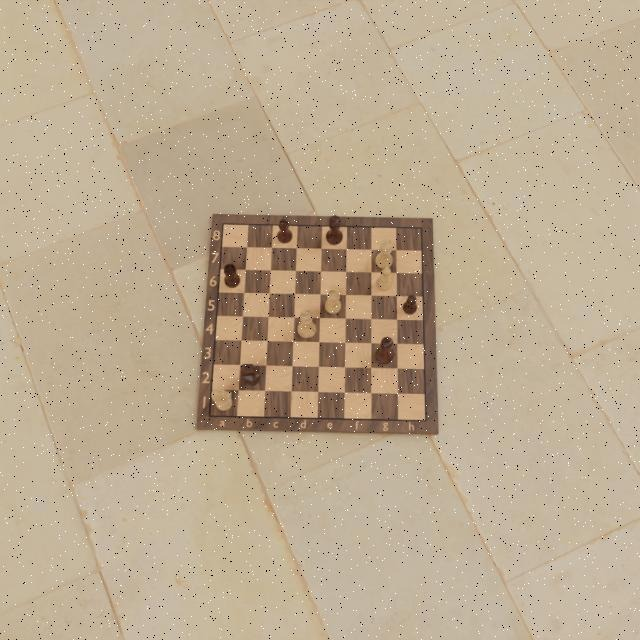black-bishop: (275, 218, 292, 245)
black-king: (375, 337, 397, 367)
black-knight: (239, 361, 263, 386)
black-pawn: (402, 293, 420, 315)
black-queen: (325, 214, 343, 245)
black-rook: (223, 263, 240, 288)
white-king: (296, 308, 316, 340)
white-knight: (211, 387, 235, 412)
white-queen: (373, 237, 395, 269)
white-rook: (374, 266, 394, 294), (324, 288, 342, 316)
